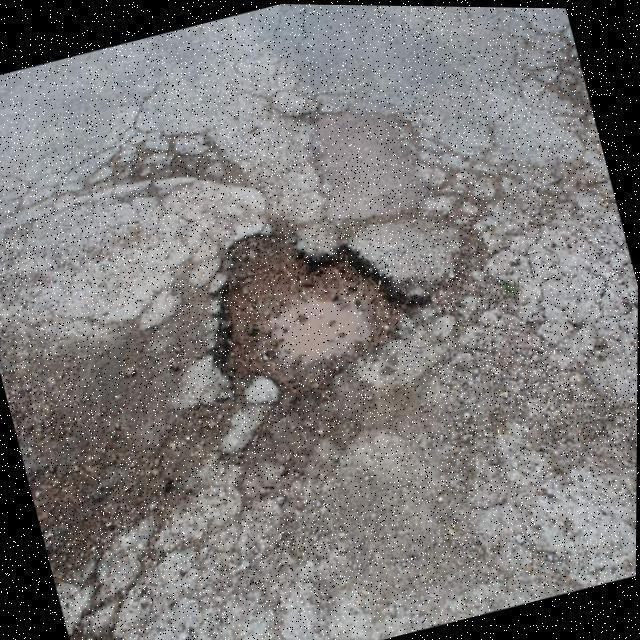Pothole: (218, 236, 405, 393)
